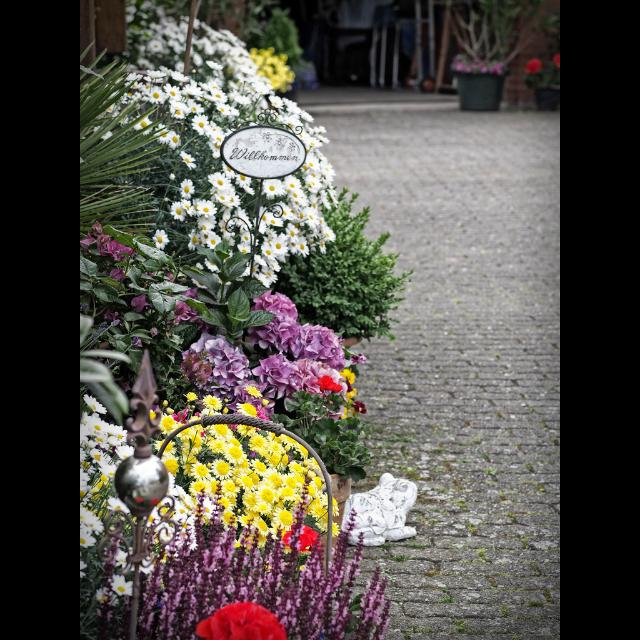Flower: (80, 0, 392, 638), (450, 54, 506, 78), (527, 58, 543, 78), (555, 54, 559, 70)
